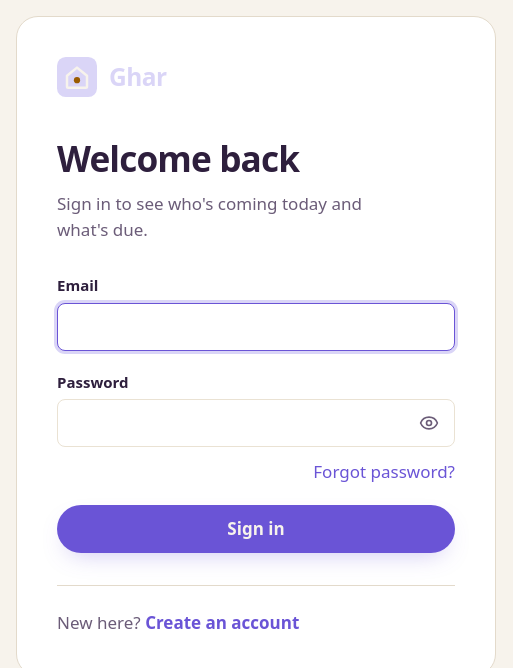
Test case: SignInPage › validates before calling the server
Step 1. Click the button "Sign in" → (256, 529), box [57, 505, 455, 553]
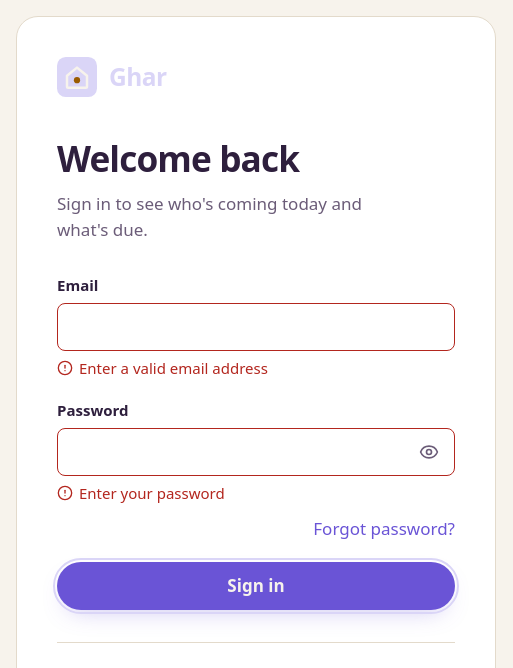
Expected: the text "Enter a valid email address" is shown, [57, 358, 268, 378]
